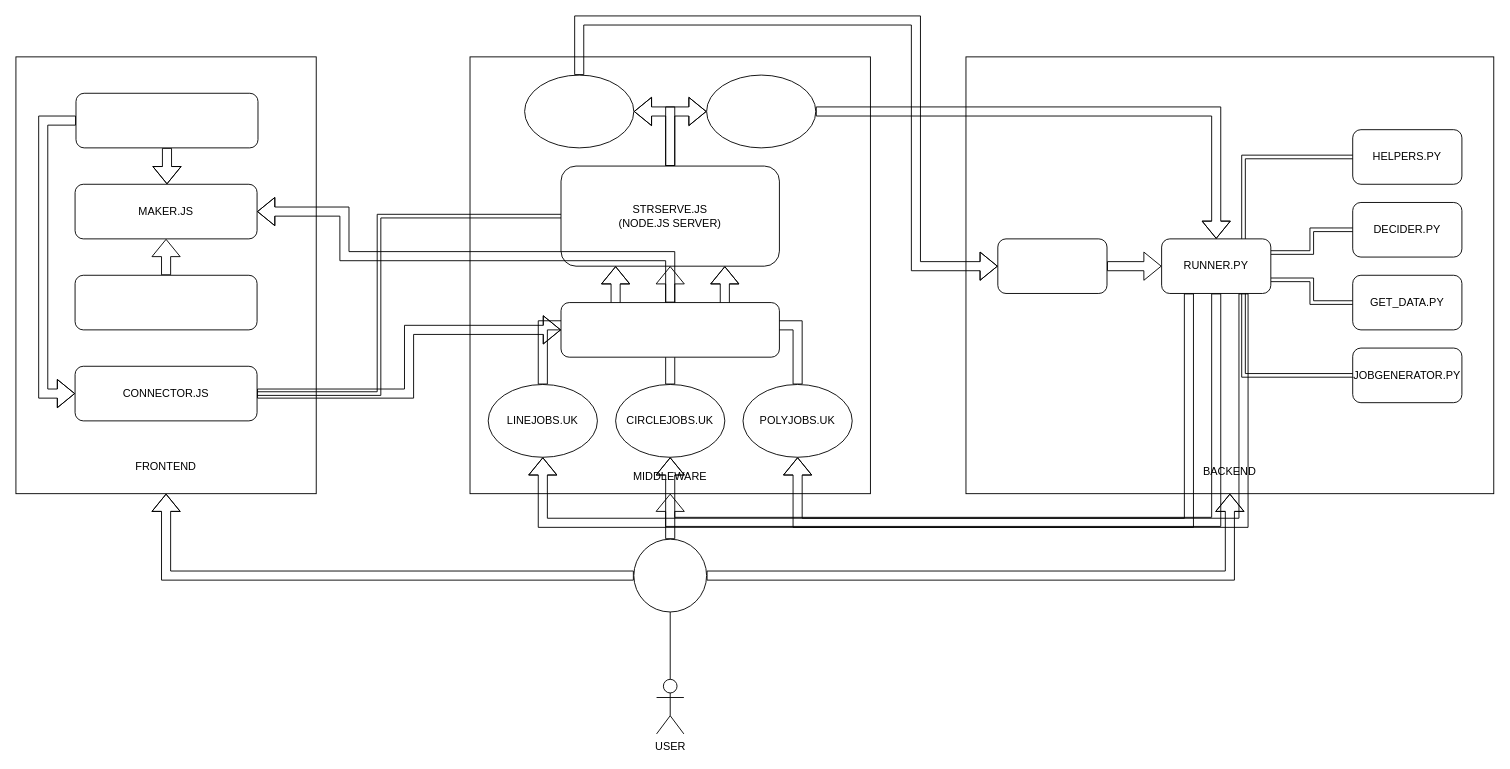
The diagram is 1510 pixels wide and 769 high, and some of its shapes have lost their labels. The shapes that lost their labels are listed below. From the top down, each one's centre as x and y in pixels, then its label:
pixel 166 120: UI.HTML
pixel 579 111: STATUS.UK
pixel 761 111: COMMANDS.UK
pixel 1052 265: RUNIT.PY
pixel 165 302: RUNNER.JS
pixel 669 329: PARSER.JS (CORE PARSING MODULES)
pixel 670 575: STARTER.PY
